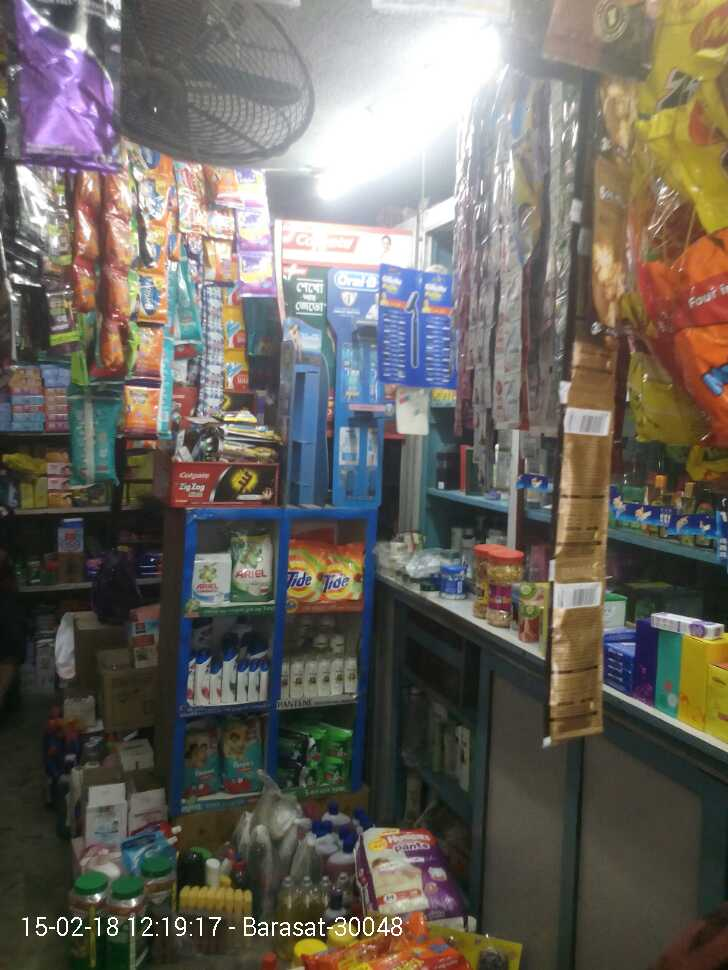beauty: (190, 649, 208, 705), (222, 644, 238, 703), (317, 658, 331, 699), (290, 661, 304, 701), (235, 662, 248, 702), (210, 659, 220, 710), (344, 657, 356, 699), (249, 662, 260, 704), (306, 662, 317, 702), (332, 658, 343, 697), (283, 663, 290, 702)
home: (231, 531, 278, 597), (190, 551, 233, 603), (319, 543, 363, 593), (290, 543, 325, 600)
pharmacy: (222, 722, 262, 794), (184, 723, 220, 797), (315, 723, 348, 762), (281, 725, 307, 764), (313, 762, 348, 784)
